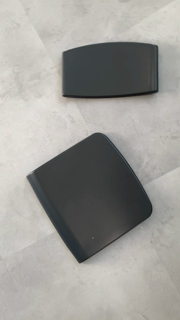Back: (58, 40, 162, 102)
Seat: (25, 132, 157, 268)
